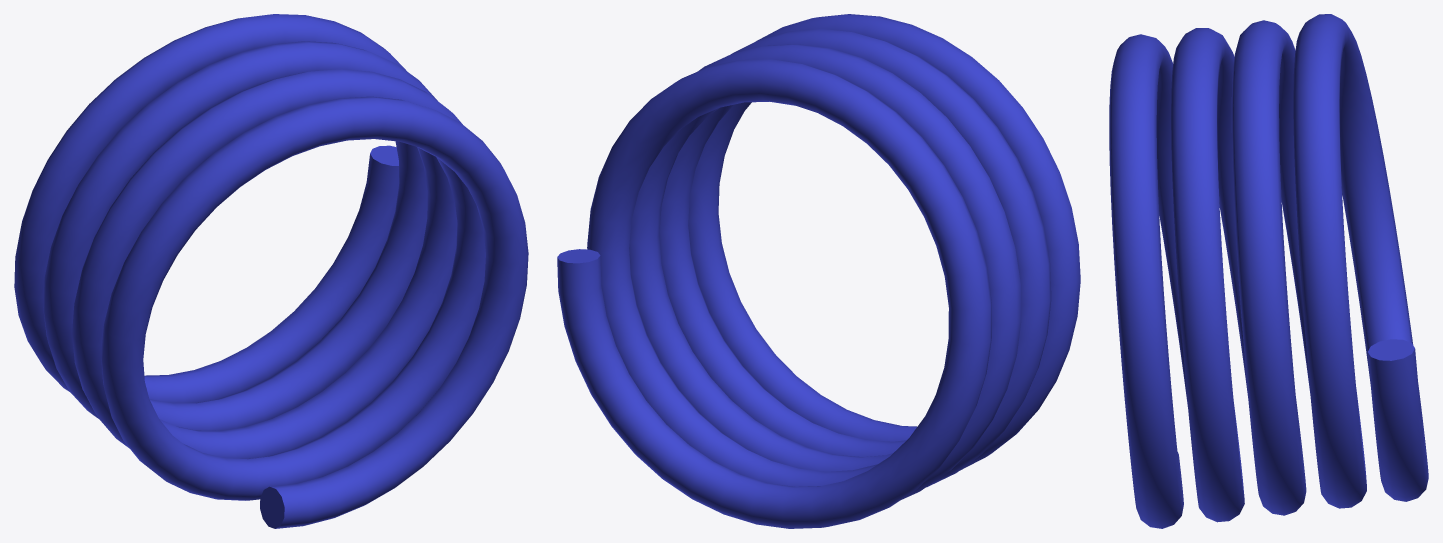
Rendered from manija_res.obj.
The picture shows the model from 3 angles, left to right: view 1: azimuth 30°, elevation 25°; view 2: azimuth 150°, elevation 25°; view 3: azimuth 270°, elevation 25°; orthographic projection. The views are drawn at different scales.
Parts seen in each view (by area): view 1: ARCHMODELS_47_050_24; view 2: ARCHMODELS_47_050_24; view 3: ARCHMODELS_47_050_24.
Boxes of the visible parts, x1=… form: ARCHMODELS_47_050_24: x1=14, y1=14, x2=528, y2=528; ARCHMODELS_47_050_24: x1=557, y1=14, x2=1080, y2=528; ARCHMODELS_47_050_24: x1=1109, y1=14, x2=1428, y2=528.
Size of the model in its own units: 0.0154 by 0.0161 by 0.00993.
